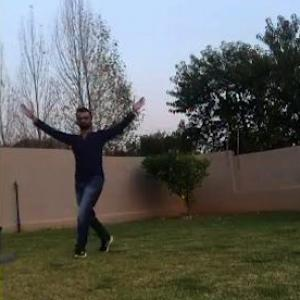takeoff: (20, 91, 152, 260)
